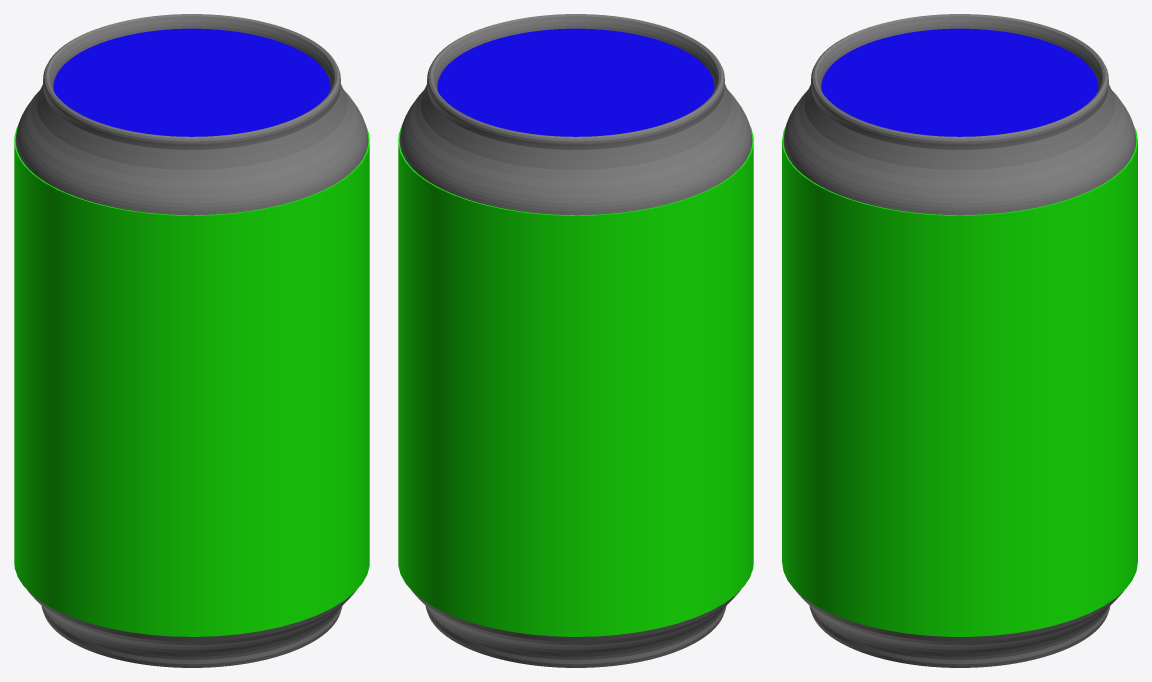
File: Beer.fbx
3 renders of one model, left to right at view 1: azimuth 30°, elevation 25°; view 2: azimuth 150°, elevation 25°; view 3: azimuth 270°, elevation 25°, orthographic.
Parts seen in each view (by area): view 1: Tube03, Line01, Circle01; view 2: Tube03, Line01, Circle01; view 3: Tube03, Line01, Circle01.
Boxes of the visible parts, x1=… form: Tube03: x1=14, y1=125, x2=369, y2=636; Line01: x1=15, y1=14, x2=368, y2=667; Circle01: x1=53, y1=28, x2=330, y2=136; Tube03: x1=398, y1=125, x2=753, y2=636; Line01: x1=399, y1=14, x2=752, y2=667; Circle01: x1=437, y1=28, x2=714, y2=136; Tube03: x1=782, y1=126, x2=1137, y2=636; Line01: x1=783, y1=14, x2=1136, y2=667; Circle01: x1=821, y1=28, x2=1098, y2=136.
Bounding box in the file's own units: 60.28 × 60.4 × 99.27.
